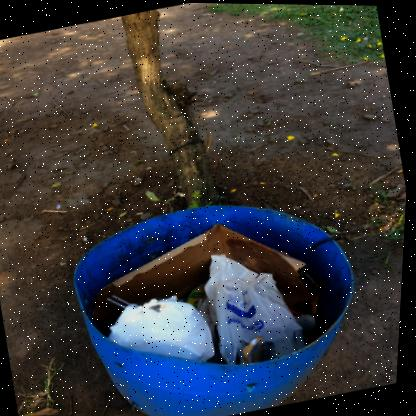Paper: (91, 222, 330, 325), (188, 282, 210, 308), (297, 314, 319, 331)
Plastic: (201, 253, 309, 363), (111, 294, 219, 360), (246, 334, 267, 362), (109, 297, 129, 308), (115, 294, 134, 304)
Waste: (139, 211, 146, 214)
